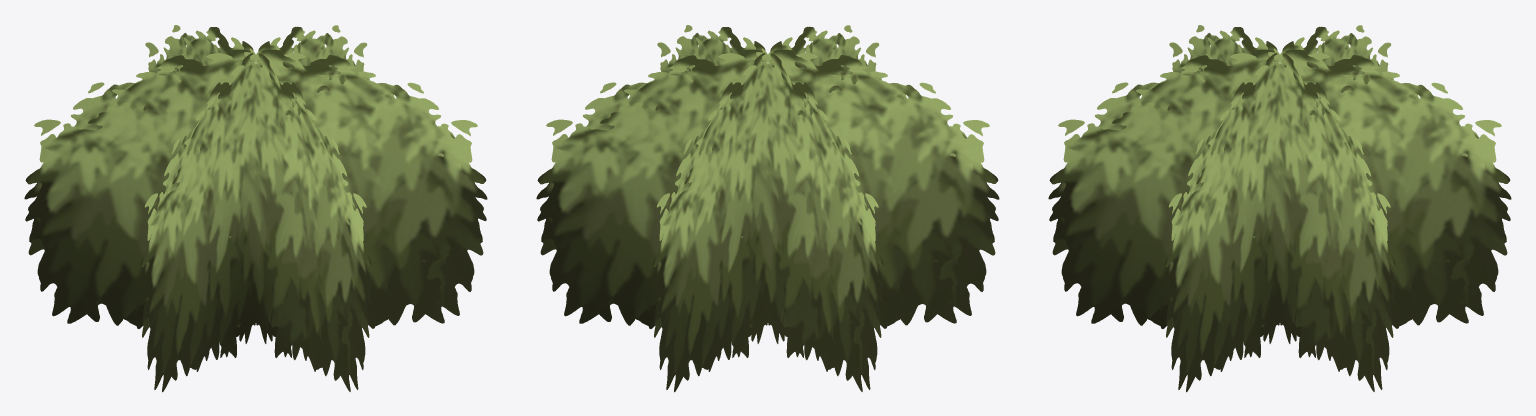
The model's file is HP3_bush033 1.fbx.
The picture shows the model from 3 angles, left to right: view 1: azimuth 30°, elevation 25°; view 2: azimuth 150°, elevation 25°; view 3: azimuth 270°, elevation 25°; orthographic projection.
Visible parts, largest first — view 1: HP3_bush033; view 2: HP3_bush033; view 3: HP3_bush033.
Part boxes in pixels (x1,y1,x2,y2): HP3_bush033: (24,25,487,392); HP3_bush033: (536,25,999,392); HP3_bush033: (1048,25,1511,392).
Size of the model in its own units: 8.75 by 7.21 by 10.1.
